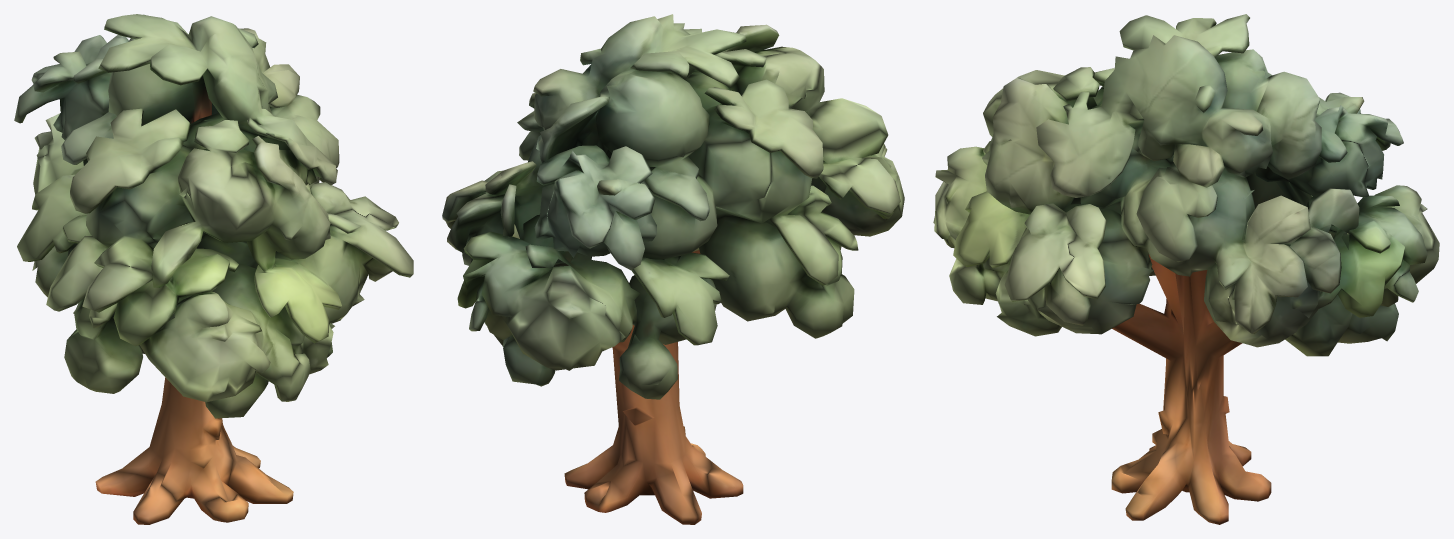
The picture shows the model from 3 angles, left to right: view 1: azimuth 30°, elevation 25°; view 2: azimuth 150°, elevation 25°; view 3: azimuth 270°, elevation 25°; orthographic projection. The views are drawn at different scales.
Parts seen in each view (by area): view 1: tripo_node_7605ef58-d65a-4eaa-ad18-4e59ed9b8e71; view 2: tripo_node_7605ef58-d65a-4eaa-ad18-4e59ed9b8e71; view 3: tripo_node_7605ef58-d65a-4eaa-ad18-4e59ed9b8e71.
Boxes of the visible parts, x1=… form: tripo_node_7605ef58-d65a-4eaa-ad18-4e59ed9b8e71: x1=14, y1=14, x2=413, y2=524; tripo_node_7605ef58-d65a-4eaa-ad18-4e59ed9b8e71: x1=442, y1=14, x2=904, y2=524; tripo_node_7605ef58-d65a-4eaa-ad18-4e59ed9b8e71: x1=933, y1=14, x2=1439, y2=524.
Bounding box in the file's own units: 1.16 × 1.5 × 1.5.
1 material, 1 textured.
